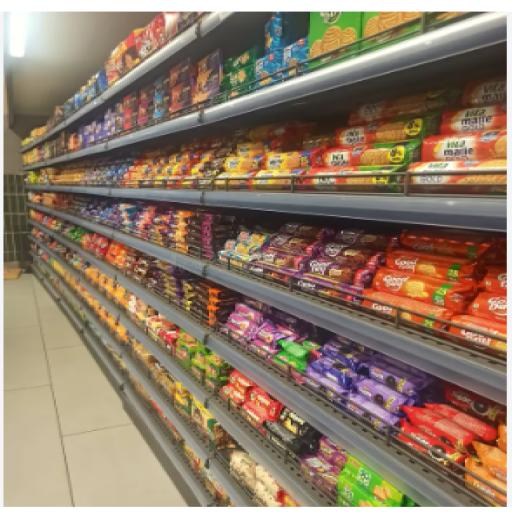goodday: (374, 268, 475, 313), (364, 289, 453, 328), (388, 250, 482, 280), (401, 232, 498, 260), (320, 229, 388, 266), (451, 315, 505, 351), (308, 257, 363, 289), (470, 292, 505, 325), (484, 266, 505, 296)
